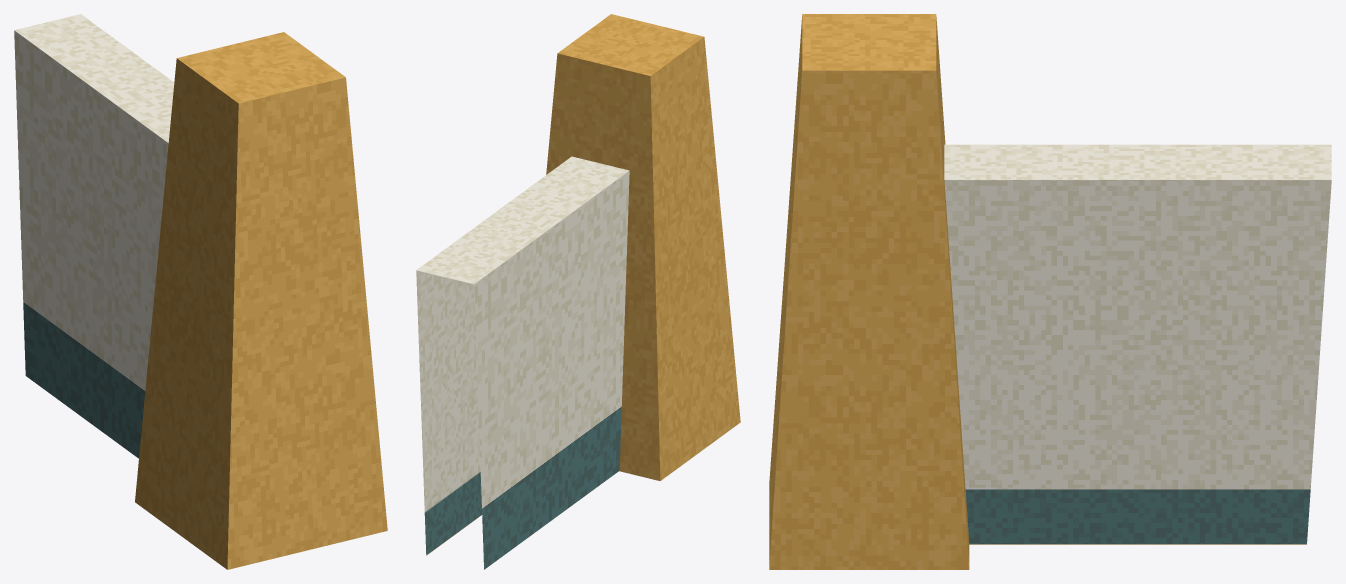
The model's file is MurallaEsquinasGrecia.fbx.
The picture shows the model from 3 angles, left to right: view 1: azimuth 30°, elevation 25°; view 2: azimuth 150°, elevation 25°; view 3: azimuth 270°, elevation 25°; orthographic projection. The views are drawn at different scales.
Parts seen in each view (by area): view 1: Muralla Esquinas; view 2: Muralla Esquinas; view 3: Muralla Esquinas.
Part boxes in pixels (<box>): Muralla Esquinas: <box>14,14,387,569</box>; Muralla Esquinas: <box>416,14,740,569</box>; Muralla Esquinas: <box>769,14,1331,569</box>.
Bounding box in the file's own units: 299 × 799 × 839.
